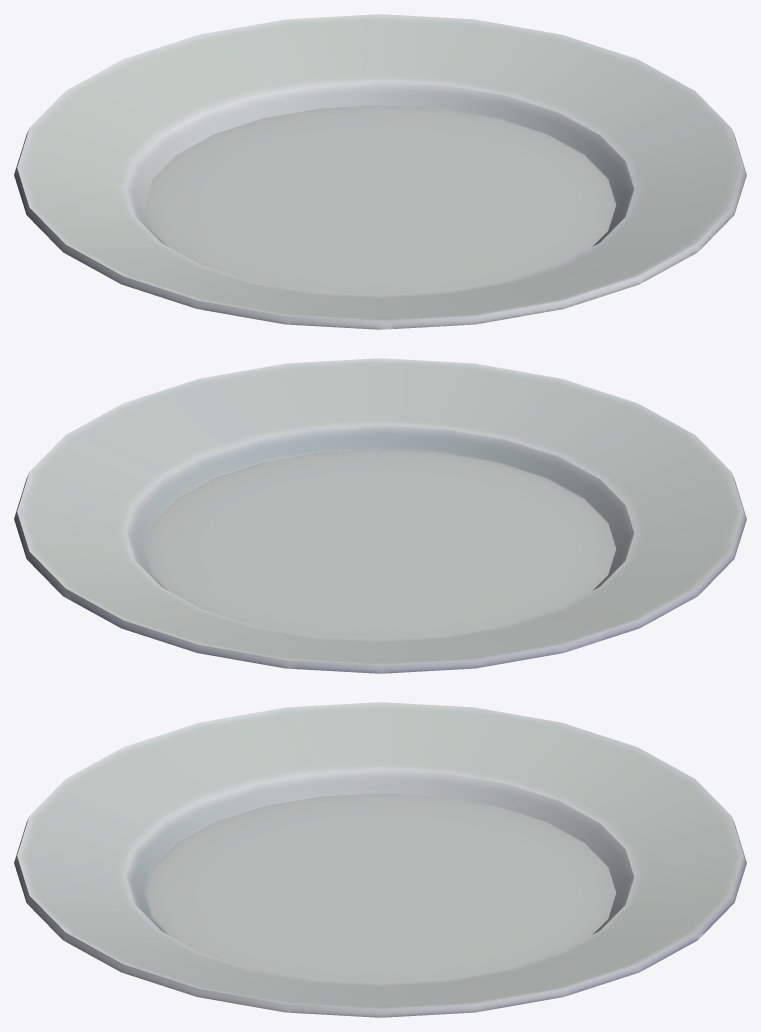
Rendered from plate.gltf.
3 renders of one model, top to bottom at view 1: azimuth 30°, elevation 25°; view 2: azimuth 150°, elevation 25°; view 3: azimuth 270°, elevation 25°, orthographic.
Visible parts, largest first — view 1: Object_5.005; view 2: Object_5.005; view 3: Object_5.005.
Boxes of the visible parts, bbox=[...] form: Object_5.005: bbox=[14, 14, 746, 329]; Object_5.005: bbox=[14, 358, 746, 673]; Object_5.005: bbox=[14, 702, 746, 1017].
Size of the model in its own units: 1.5 by 0.1094 by 1.5.
Materials: 1 (1 with a texture image).
